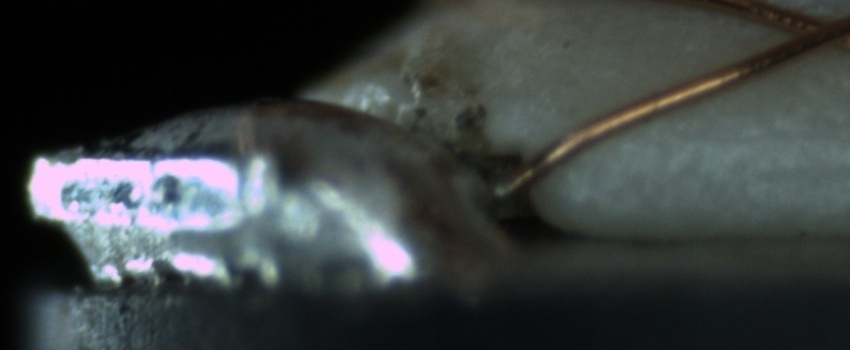CL: (767, 3, 848, 59)
DL: (634, 102, 845, 174)
